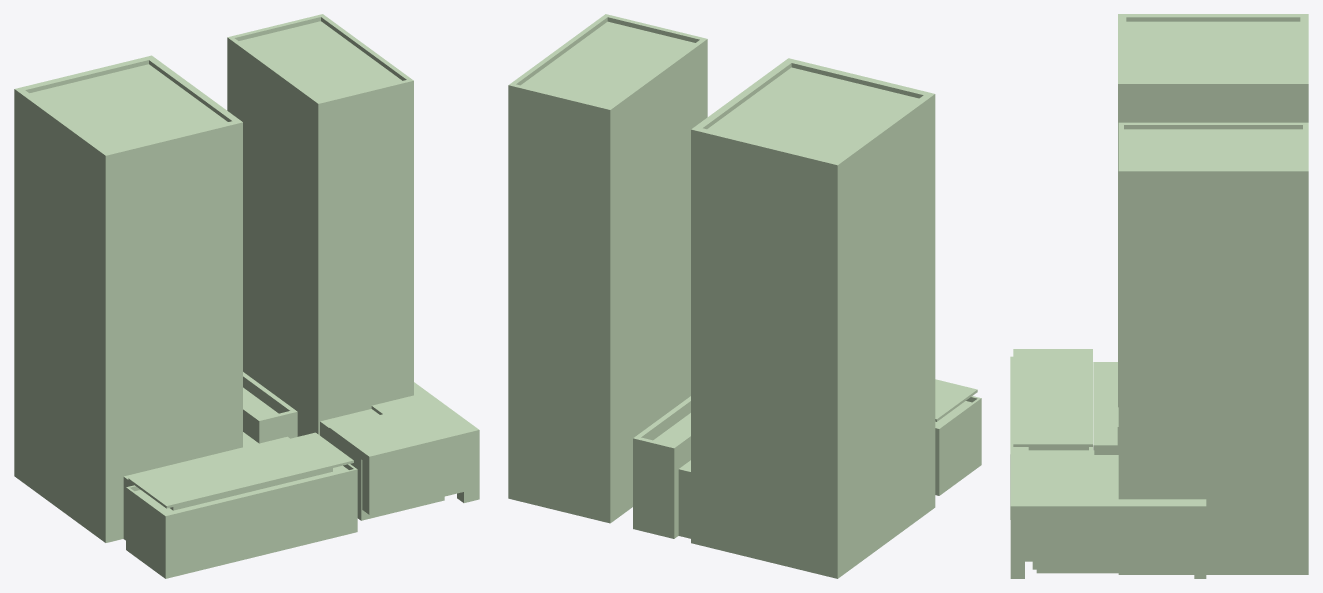
Rendered from NaverLabs1784.glb.
3 views of the same model, side by side, from view 1: azimuth 30°, elevation 25°; view 2: azimuth 150°, elevation 25°; view 3: azimuth 270°, elevation 25° (orthographic). The views are drawn at different scales.
Visible parts, largest first — view 1: Combined; view 2: Combined; view 3: Combined.
Boxes of the visible parts, <box> form: Combined: <box>14,14,479,578</box>; Combined: <box>508,14,981,578</box>; Combined: <box>1010,14,1308,578</box>.
Bounding box in the file's own units: 48.6 × 55.83 × 37.33.
